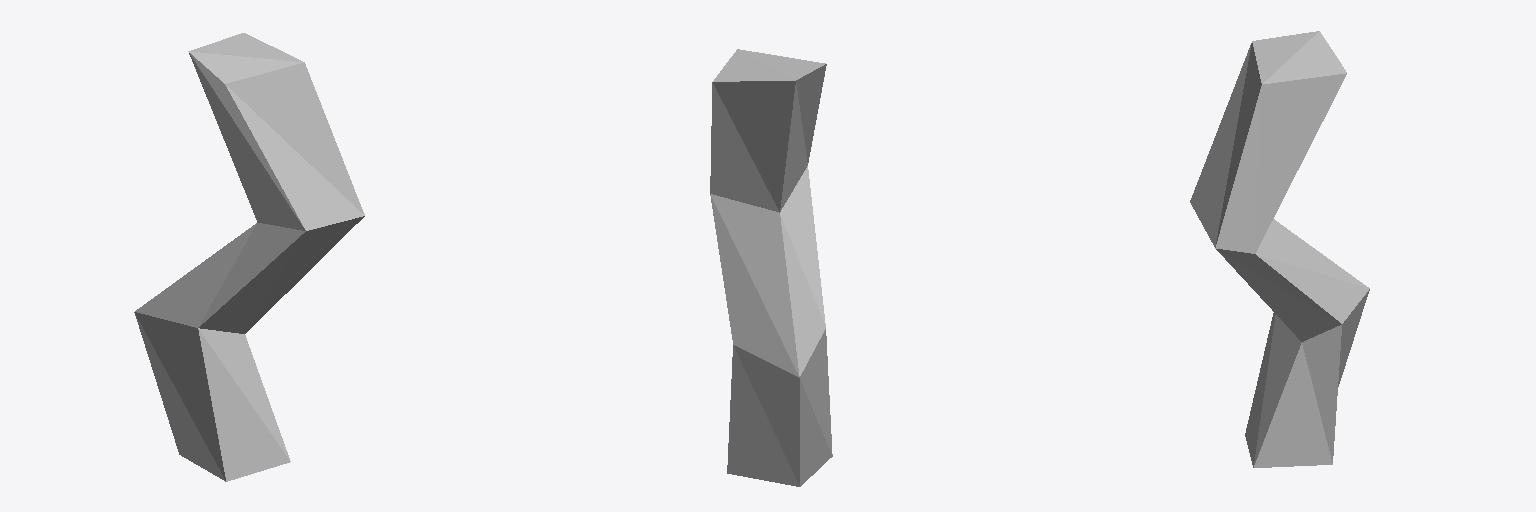
The model's file is Stem2.obj.
3 renders of one model, left to right at view 1: azimuth 30°, elevation 25°; view 2: azimuth 150°, elevation 25°; view 3: azimuth 270°, elevation 25°, orthographic.
Parts seen in each view (by area): view 1: Stem2; view 2: Stem2; view 3: Stem2.
Part boxes in pixels (x1,y1,x2,y2): Stem2: (134,33,364,481); Stem2: (710,49,832,486); Stem2: (1190,31,1369,467).
Size of the model in its own units: 0.1107 by 0.2782 by 0.1126.